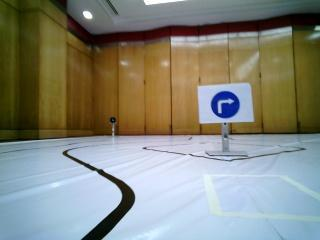right: (201, 86, 251, 119)
